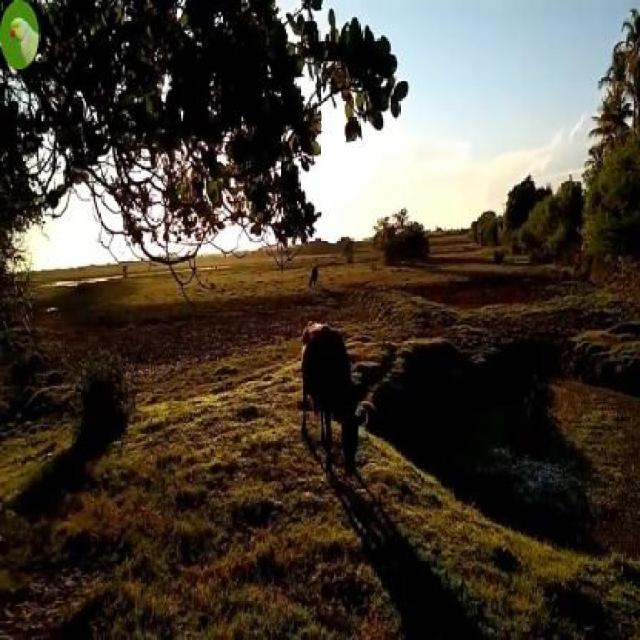Cow: (300, 317, 358, 480)
